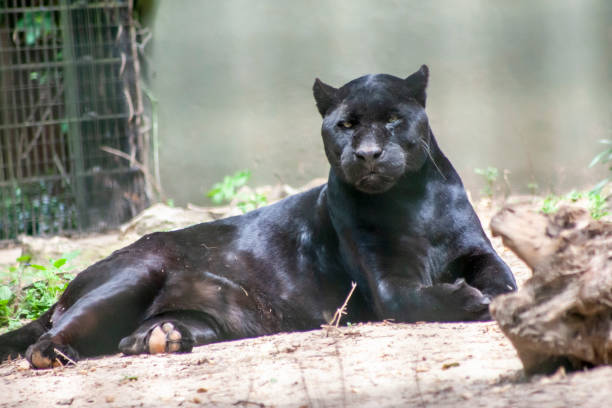panther: (299, 61, 457, 209)
